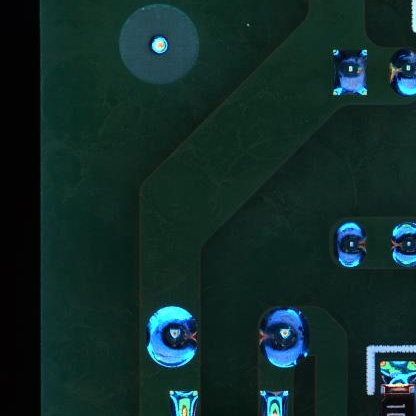spot: (256, 304, 309, 369), (144, 305, 199, 367), (330, 50, 368, 97), (333, 222, 367, 268), (390, 48, 416, 95), (392, 219, 416, 268)
